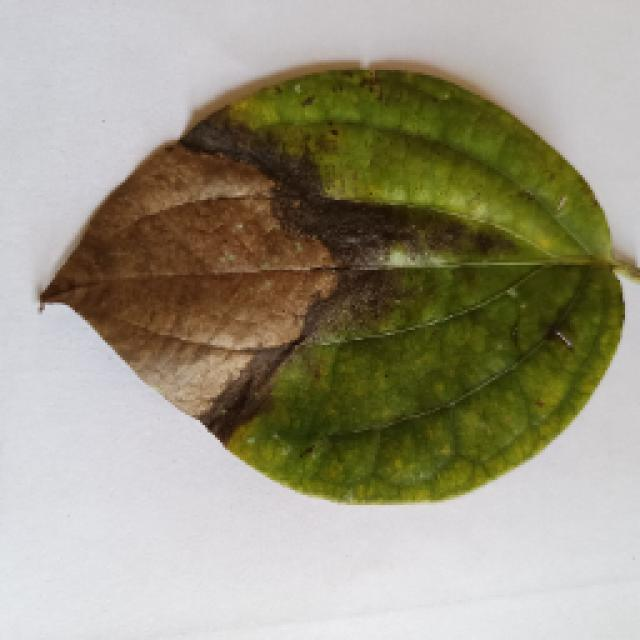footrot: (18, 70, 628, 512)
